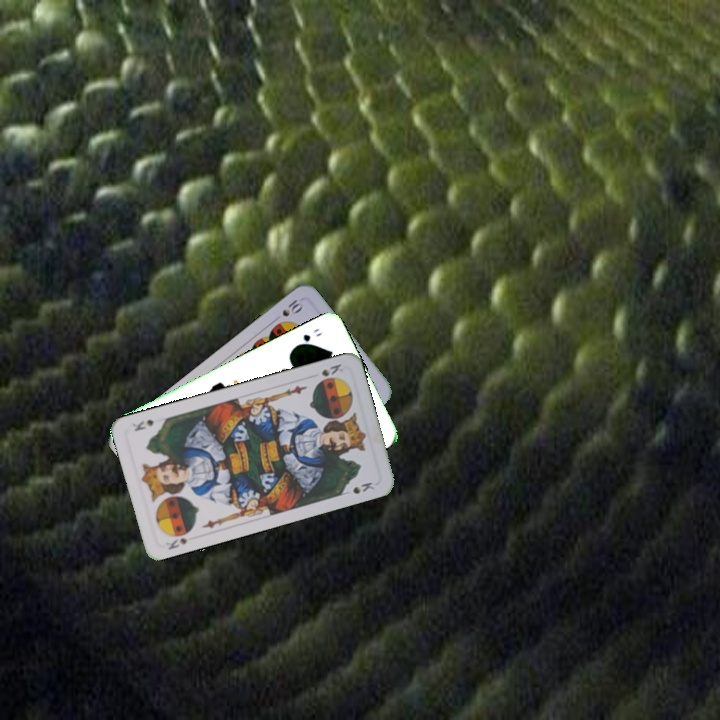GO: (292, 324, 325, 349)
S10: (278, 295, 306, 319)
SK: (317, 360, 346, 379), (162, 534, 190, 552)
